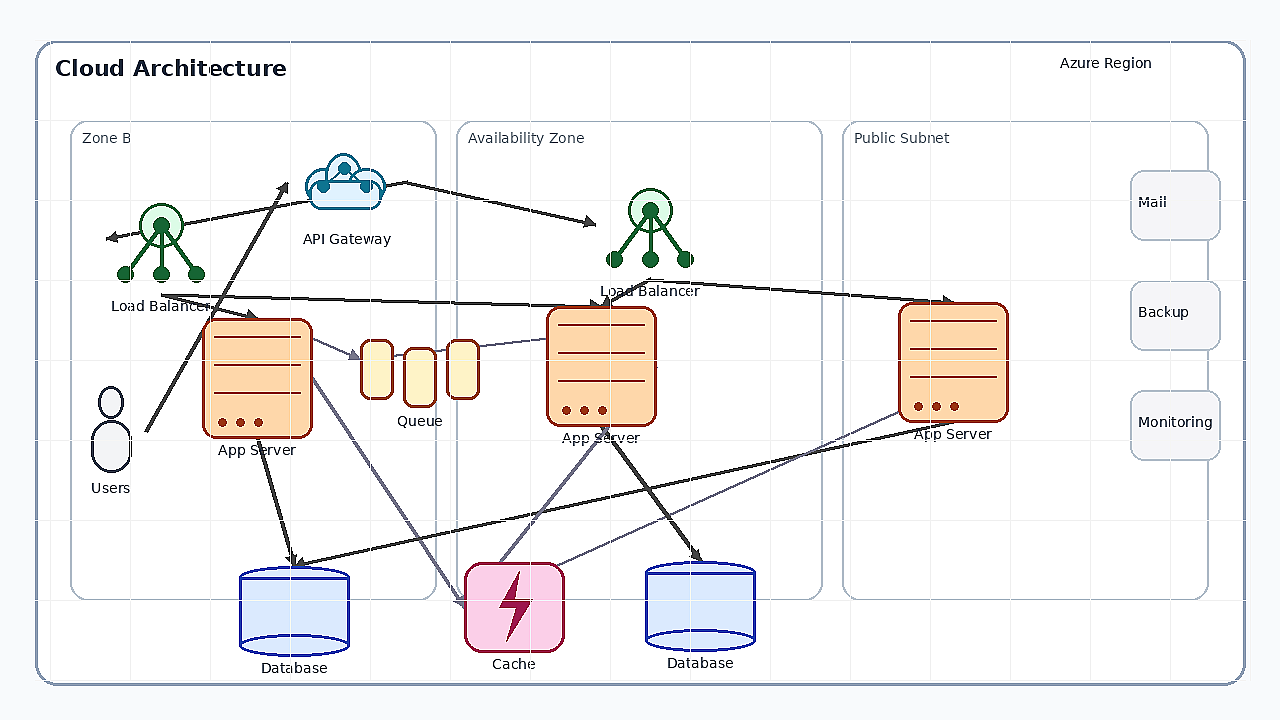API Gateway: (287, 137, 407, 227)
Application Server: (202, 318, 312, 438), (898, 302, 1008, 422), (546, 306, 656, 426)
Cache: (464, 562, 564, 652)
Database: (645, 561, 755, 651), (239, 566, 349, 656)
Load Balancer: (595, 169, 705, 279), (106, 184, 216, 294)
Message Queue: (360, 339, 480, 409)
User: (76, 386, 146, 476)
